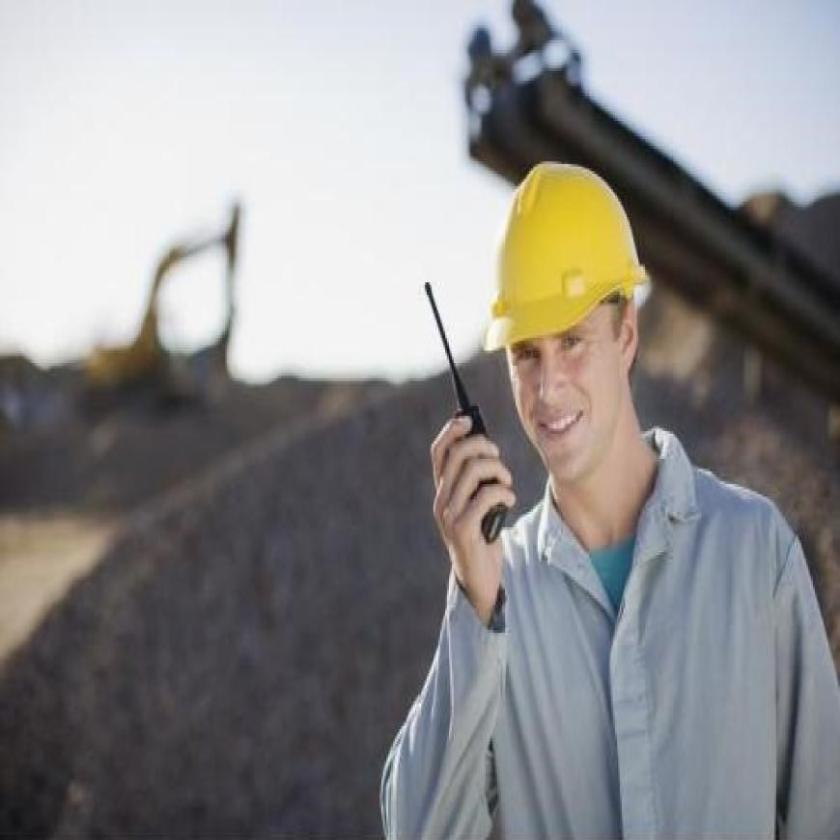Con_casco: (485, 158, 654, 522)
